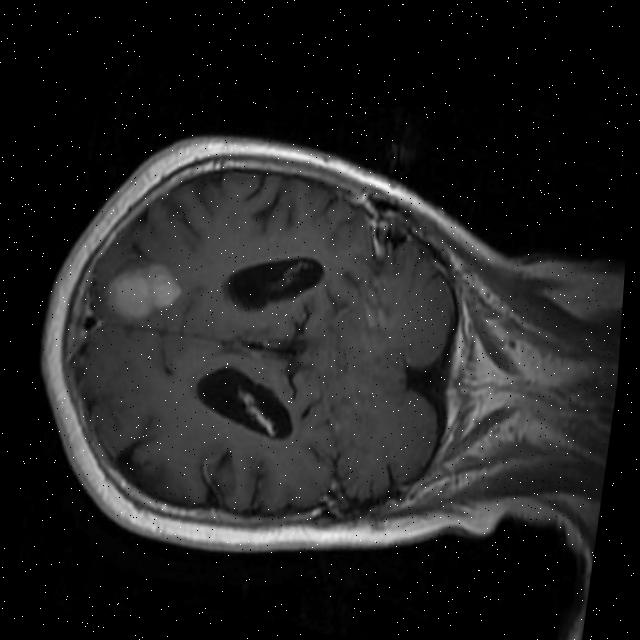Meningioma: (98, 252, 186, 326)
